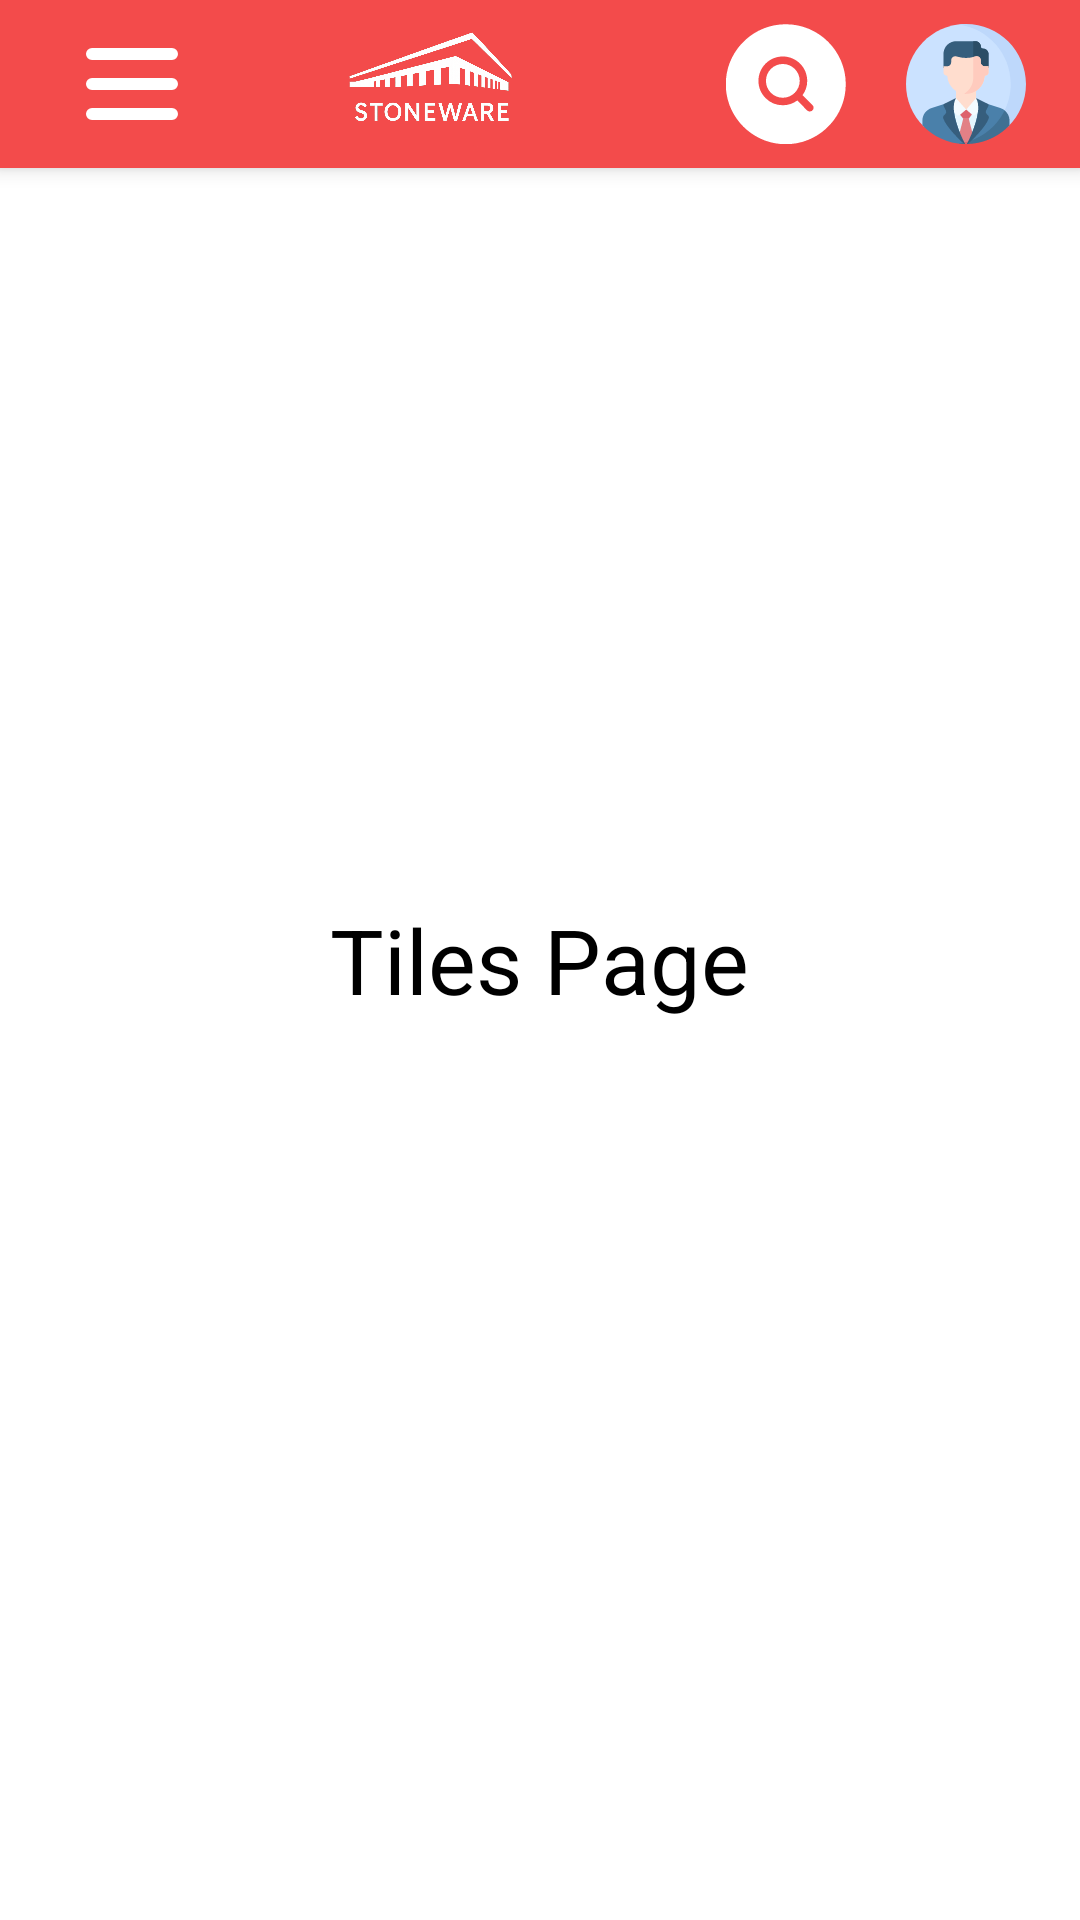

Where to tap for icons on this 1080px x 1920px app screen, as point (x, y):
Account: point (966, 84)
Menu: point (132, 84)
Search: point (786, 84)
